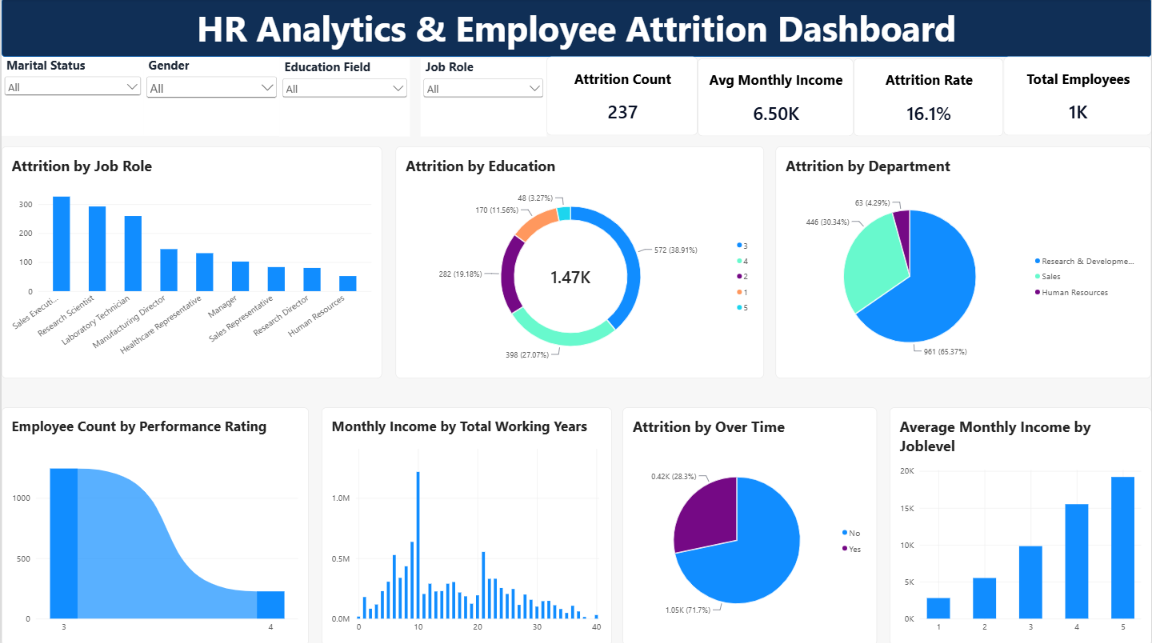

The dashboard page shown, as its layout file describes it:
{"tool":"powerbi","page":{"name":"Page 1","canvas":[1920,1080],"ordinal":0},"visuals":[{"type":"slicer","fields":{"Values":["hr_analytics.Gender"]},"box":[237.5,97.5,227.5,132.5],"z":0},{"type":"slicer","fields":{"Values":["hr_analytics.MaritalStatus"]},"box":[0,97.5,237.5,132.5],"z":1000},{"type":"slicer","fields":{"Values":["hr_analytics.JobRole"]},"box":[700,100,210,130],"z":2000},{"type":"slicer","fields":{"Values":["hr_analytics.EducationField"]},"box":[465,100,217.5,130],"z":3000},{"type":"pieChart","title":"Attrition by Department","fields":{"Category":["hr_analytics.Department"],"Y":["CountNonNull(hr_analytics.Attrition)"]},"box":[1292.5,247.5,627.5,387.5],"z":4000},{"type":"clusteredColumnChart","title":"Attrition by Job Role","fields":{"Category":["hr_analytics.JobRole"],"Y":["CountNonNull(hr_analytics.Attrition)"]},"box":[0,247.5,635,387.5],"z":5000},{"type":"donutChart","title":"Attrition by Education","fields":{"Category":["hr_analytics.Education"],"Y":["CountNonNull(hr_analytics.Attrition)"]},"box":[657.5,247.5,615,387.5],"z":6000},{"type":"ribbonChart","title":"Employee Count by Performance Rating","fields":{"Category":["hr_analytics.PerformanceRating"],"Y":["Sum(hr_analytics.EmployeeCount)"]},"box":[0,682.5,512.5,397.5],"z":7000},{"type":"clusteredColumnChart","title":"Average Monthly Income by Joblevel","fields":{"Category":["hr_analytics.JobLevel"],"Y":["Avg(hr_analytics.MonthlyIncome)"]},"box":[1482.5,682.5,437.5,397.5],"z":8000},{"type":"clusteredColumnChart","title":"Monthly Income by Total Working Years","fields":{"Category":["hr_analytics.TotalWorkingYears"],"Y":["Sum(hr_analytics.MonthlyIncome)"]},"box":[535,682.5,485,397.5],"z":9000},{"type":"pieChart","title":"Attrition by Over Time","fields":{"Category":["hr_analytics.OverTime"],"Y":["CountNonNull(hr_analytics.Attrition)"]},"box":[1037.5,682.5,425,397.5],"z":10000},{"type":"shape","box":[0,0,1920,97.5],"z":11000},{"type":"cardVisual","fields":{"Data":["hr_analytics.Toal Employees"]},"box":[1672.5,97.5,247.5,132.5],"z":12000},{"type":"cardVisual","fields":{"Data":["hr_analytics.Attrition Rate"]},"box":[1422.5,100,250,130],"z":13000},{"type":"cardVisual","fields":{"Data":["hr_analytics.Attrition Count"]},"box":[910,97.5,252.5,132.5],"z":14000},{"type":"cardVisual","fields":{"Data":["hr_analytics.Avg Monthly Income"]},"box":[1162.5,100,260,130],"z":15000}]}

Visuals, with their boxes in screenshot pixels (x1, y1, x2, y2), scaled from the page's 1920x1080 canvas onto the 1152x643 screenshot:
slicer - hr_analytics.Gender: bbox=(142, 58, 279, 137)
slicer - hr_analytics.MaritalStatus: bbox=(0, 58, 142, 137)
slicer - hr_analytics.JobRole: bbox=(420, 60, 546, 137)
slicer - hr_analytics.EducationField: bbox=(279, 60, 410, 137)
"Attrition by Department" pieChart: bbox=(776, 147, 1151, 378)
"Attrition by Job Role" clusteredColumnChart: bbox=(0, 147, 381, 378)
"Attrition by Education" donutChart: bbox=(394, 147, 764, 378)
"Employee Count by Performance Rating" ribbonChart: bbox=(0, 406, 308, 642)
"Average Monthly Income by Joblevel" clusteredColumnChart: bbox=(890, 406, 1151, 642)
"Monthly Income by Total Working Years" clusteredColumnChart: bbox=(321, 406, 612, 642)
"Attrition by Over Time" pieChart: bbox=(622, 406, 878, 642)
shape: bbox=(0, 0, 1151, 58)
cardVisual - hr_analytics.Toal Employees: bbox=(1004, 58, 1151, 137)
cardVisual - hr_analytics.Attrition Rate: bbox=(854, 60, 1004, 137)
cardVisual - hr_analytics.Attrition Count: bbox=(546, 58, 698, 137)
cardVisual - hr_analytics.Avg Monthly Income: bbox=(698, 60, 854, 137)
